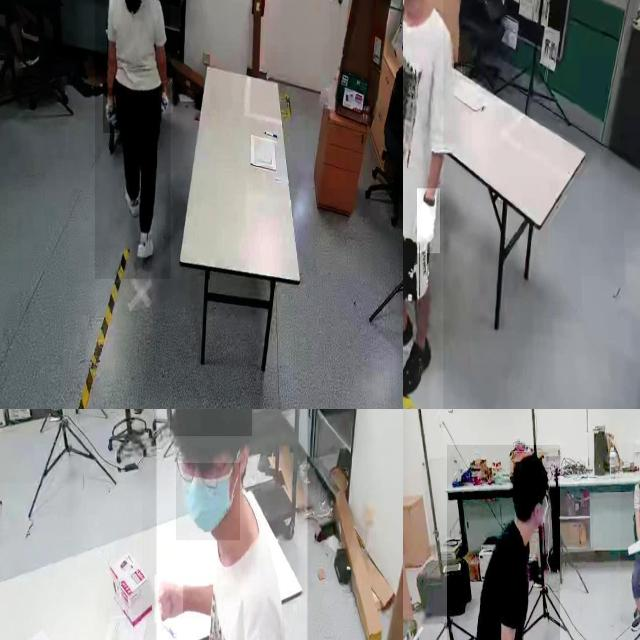face_mask: (176, 463, 240, 540)
glasses: (171, 453, 221, 492)
hand_glove: (417, 188, 441, 254), (103, 88, 121, 134), (159, 80, 173, 114)
hand_noglove: (154, 575, 183, 624)
head_nohelmet: (169, 409, 252, 437), (510, 452, 549, 497)
person: (156, 409, 307, 640), (0, 483, 142, 640), (447, 444, 560, 640), (95, 0, 171, 280), (403, 0, 444, 409), (620, 443, 640, 640)
shoes: (403, 324, 437, 401), (122, 168, 143, 218), (136, 226, 156, 264), (403, 310, 415, 372), (628, 599, 640, 633)
